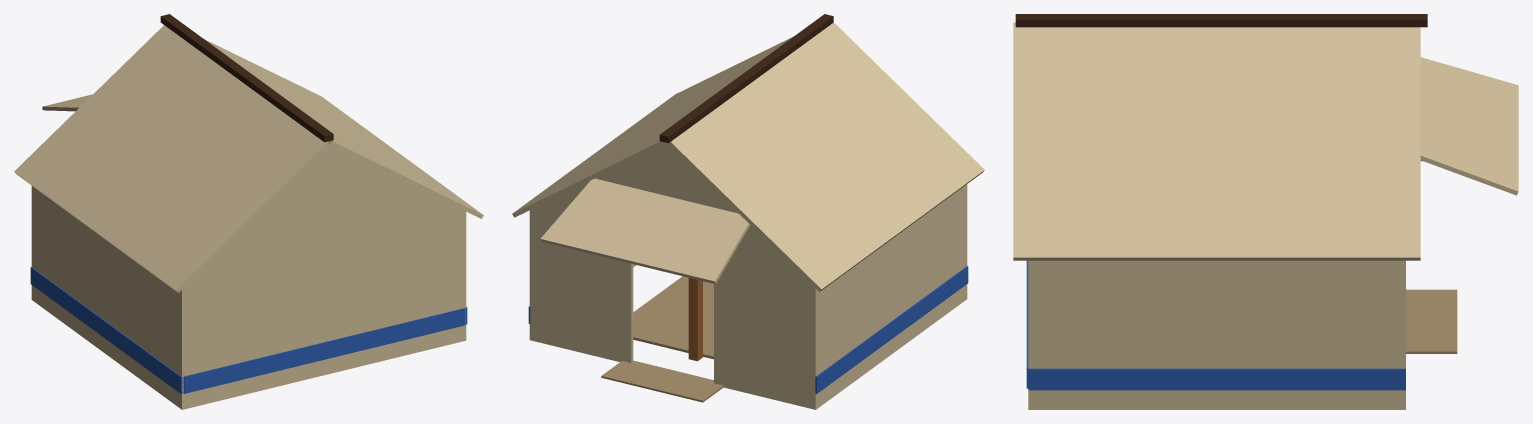
File: 中等帐篷_手游_中.glb
The picture shows the model from 3 angles, left to right: view 1: azimuth 30°, elevation 25°; view 2: azimuth 150°, elevation 25°; view 3: azimuth 270°, elevation 25°; orthographic projection. The views are drawn at different scales.
Visible parts, largest first — view 1: TN2-主体, TN2-team; view 2: TN2-主体, TN2-team; view 3: TN2-主体, TN2-team.
Part boxes in pixels (box(x1,y1,x2,y2)): TN2-主体: box(14, 14, 483, 409); TN2-team: box(30, 267, 467, 393); TN2-主体: box(512, 14, 984, 409); TN2-team: box(528, 266, 968, 393); TN2-主体: box(1013, 14, 1518, 409); TN2-team: box(1026, 260, 1405, 390).
Size of the model in its own units: 3.9 by 2.95 by 4.41.
Materials: 2 (1 with a texture image).
